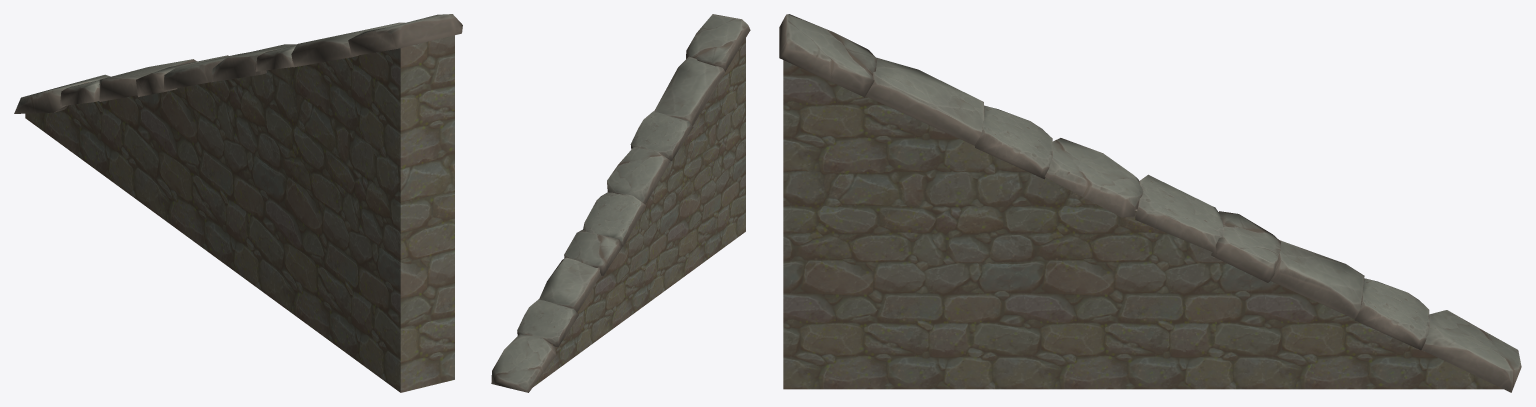
File: SM_FW01_Ruins_Int_Wall_Stairs_6x3_02.fbx
3 renders of one model, left to right at view 1: azimuth 30°, elevation 25°; view 2: azimuth 150°, elevation 25°; view 3: azimuth 270°, elevation 25°, orthographic. The views are drawn at different scales.
Parts seen in each view (by area): view 1: SM_FW01_Ruins_Int_Wall_Stairs_6x3_02; view 2: SM_FW01_Ruins_Int_Wall_Stairs_6x3_02; view 3: SM_FW01_Ruins_Int_Wall_Stairs_6x3_02.
Boxes of the visible parts, left/top/right/bottom form: SM_FW01_Ruins_Int_Wall_Stairs_6x3_02: left=14, top=14, right=462, bottom=392; SM_FW01_Ruins_Int_Wall_Stairs_6x3_02: left=491, top=14, right=750, bottom=392; SM_FW01_Ruins_Int_Wall_Stairs_6x3_02: left=779, top=14, right=1521, bottom=392.
Size of the model in its own units: 0.7022 by 3.23 by 6.17.
